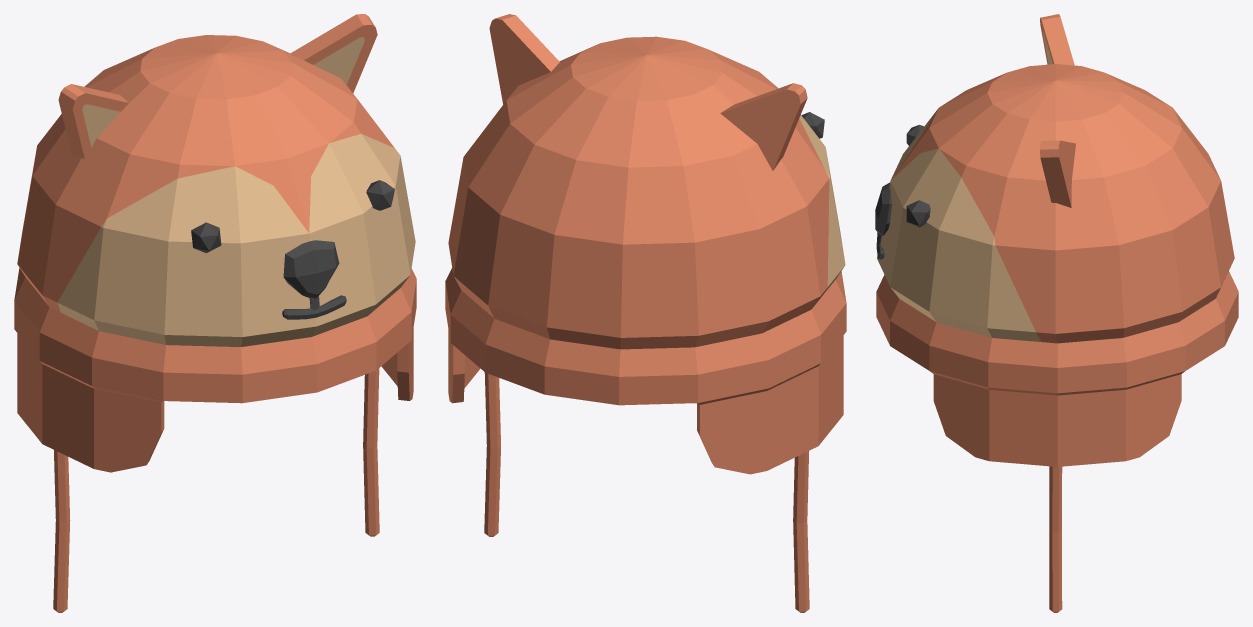
Rendered from Fox Hat.glb.
3 views of the same model, side by side, from view 1: azimuth 30°, elevation 25°; view 2: azimuth 150°, elevation 25°; view 3: azimuth 270°, elevation 25° (orthographic). The views are drawn at different scales.
Parts seen in each view (by area): view 1: FoxHat_Sphere; view 2: FoxHat_Sphere; view 3: FoxHat_Sphere.
Boxes of the visible parts, x1,y1,x2,y2 form: FoxHat_Sphere: [14, 14, 416, 612]; FoxHat_Sphere: [445, 14, 846, 612]; FoxHat_Sphere: [875, 14, 1238, 612].
Size of the model in its own units: 0.6059 by 0.8609 by 0.6096.
